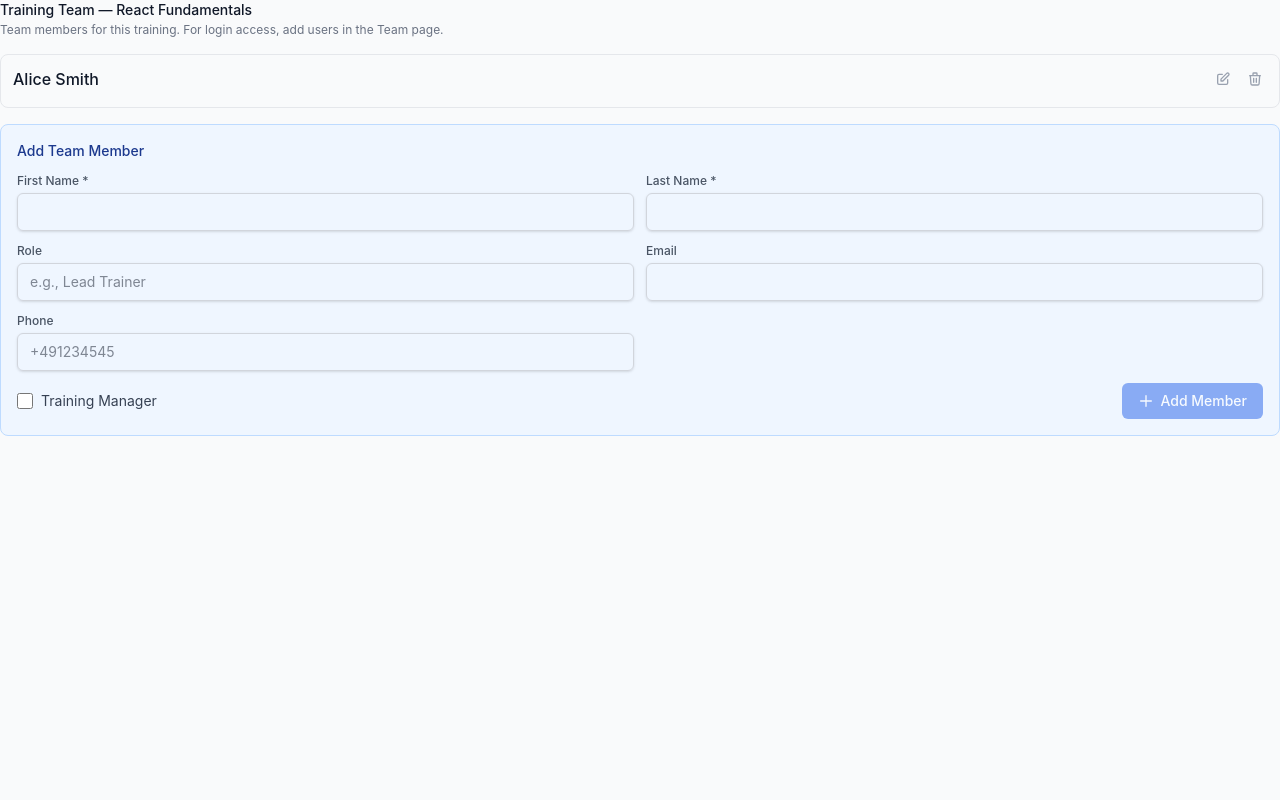
Test case: TrainingTeamTab › delete team member › closes confirm dialog when Cancel is clicked
The image size is (1280, 800).
Click the button titled "Remove": coordinates (1255, 79) [1243,67,1267,91]
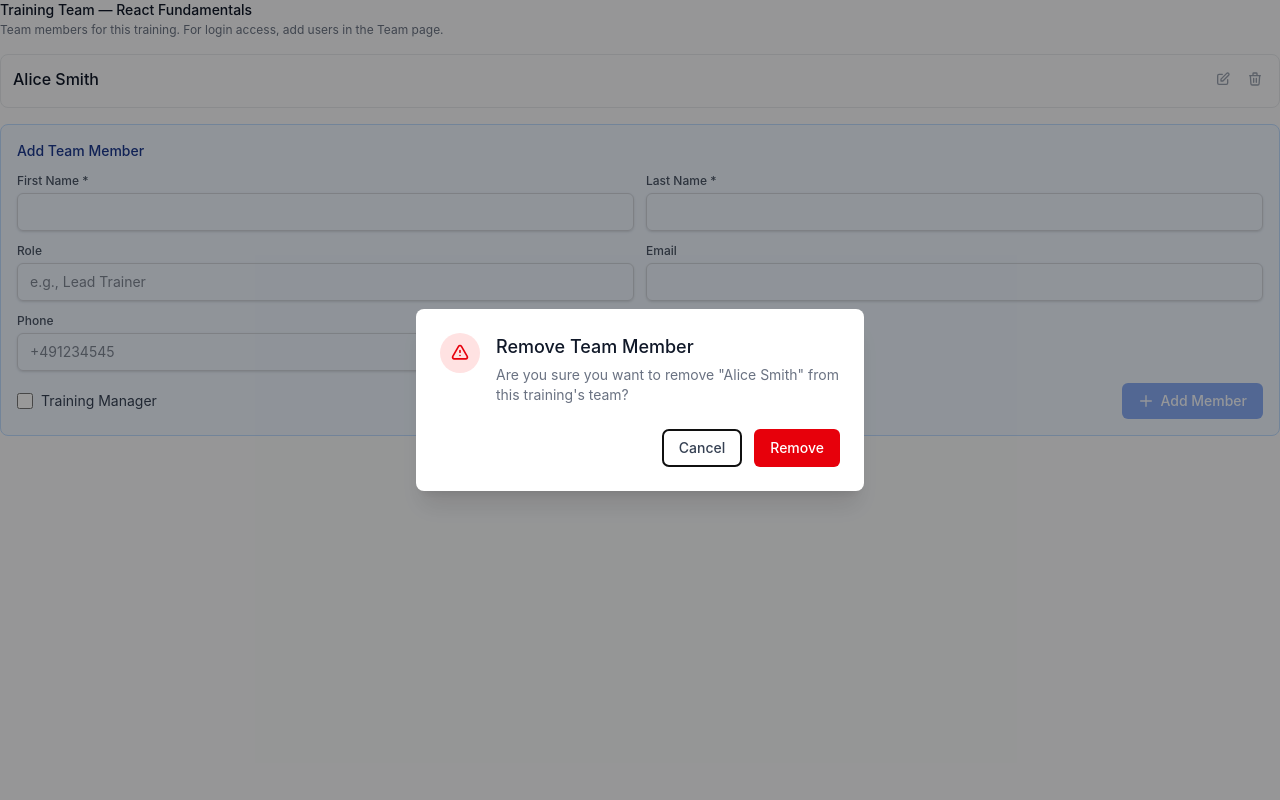
Check: the heading "Remove Team Member" is shown, box [496,336,694,357]
Click the button "Cancel": coordinates (702, 448) [662,429,742,467]
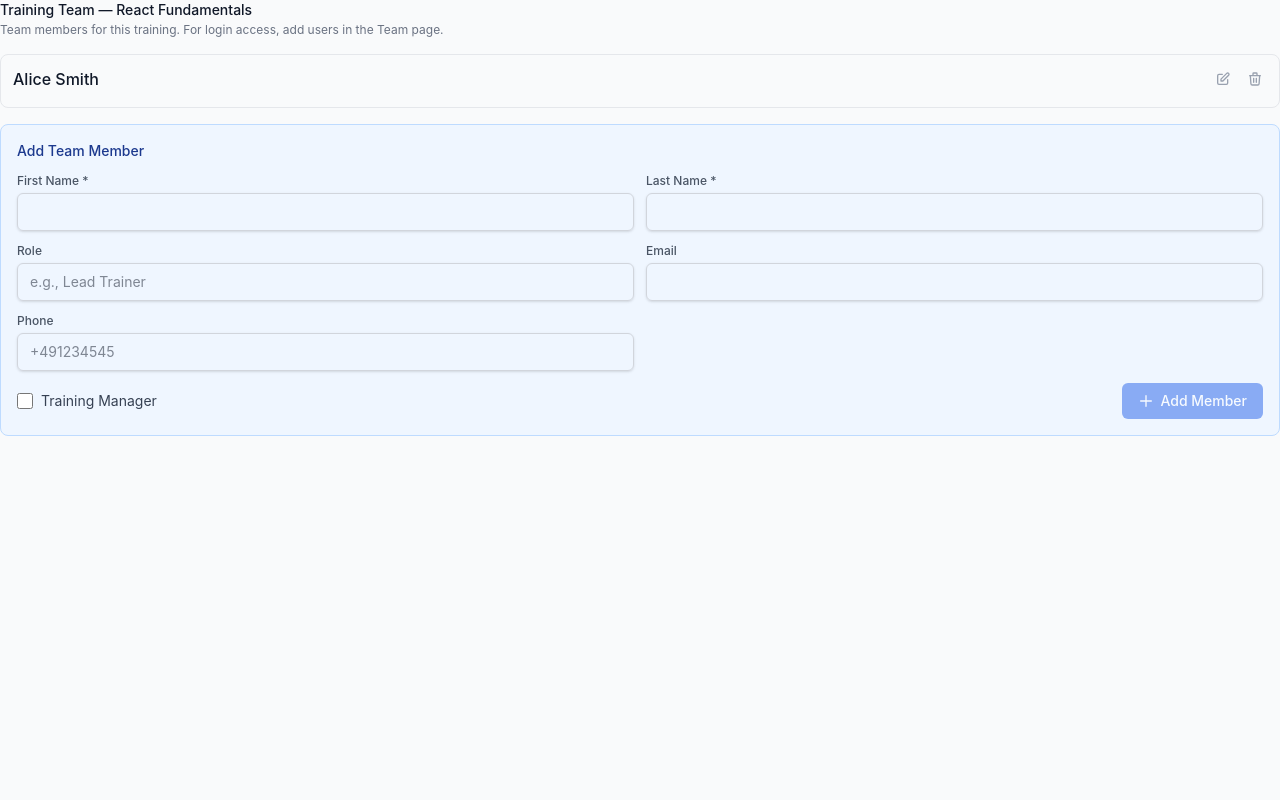
Check: the dialog is gone
